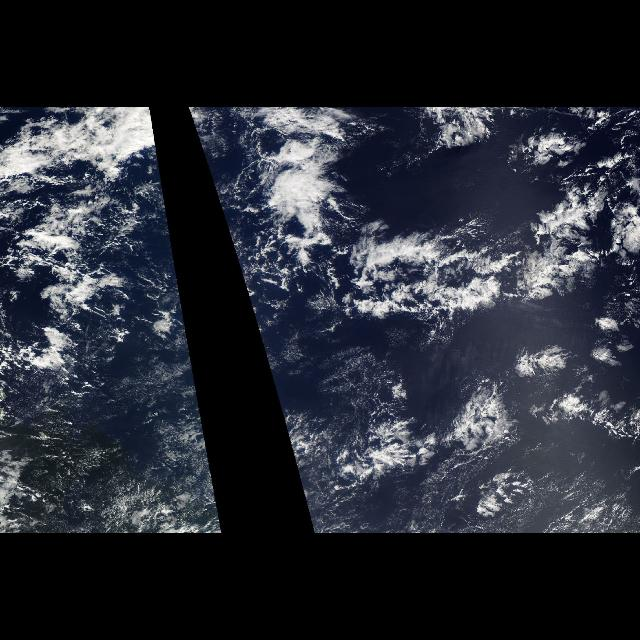Gravel: (260, 348, 380, 524), (112, 348, 222, 524)
Sugar: (13, 374, 188, 528)
